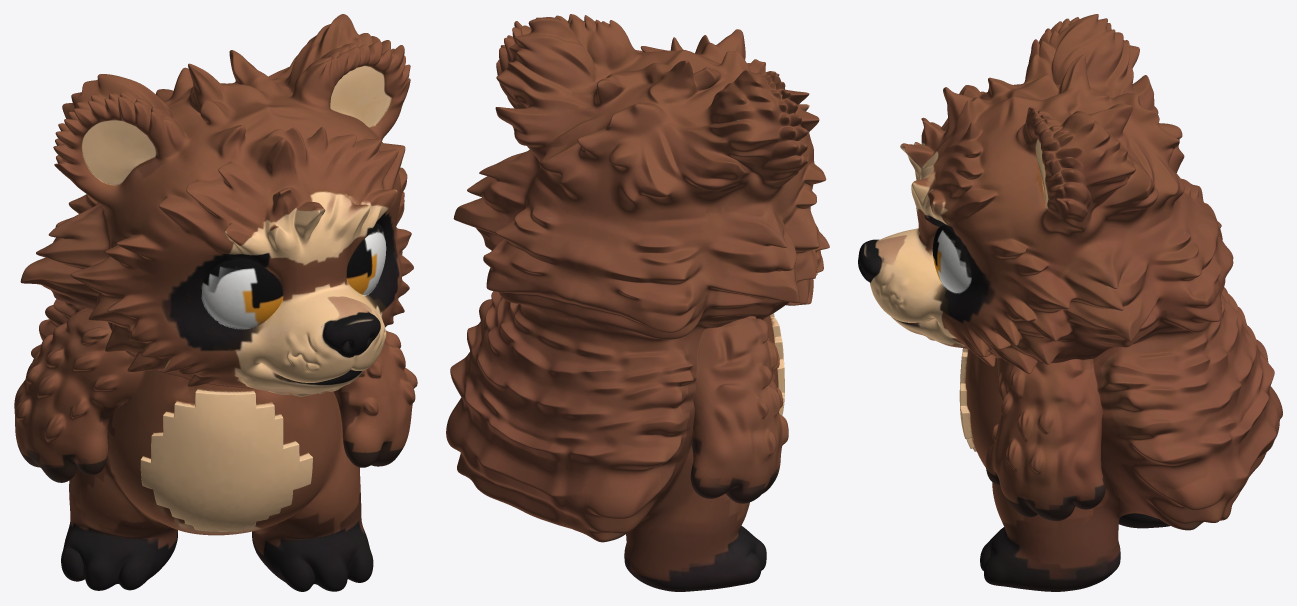
The model's file is urso_source.glb.
The picture shows the model from 3 angles, left to right: view 1: azimuth 30°, elevation 25°; view 2: azimuth 150°, elevation 25°; view 3: azimuth 270°, elevation 25°; orthographic projection. The views are drawn at different scales.
Size of the model in its own units: 1.39 by 1.9 by 1.52.
Materials: 1 (1 with a texture image).
